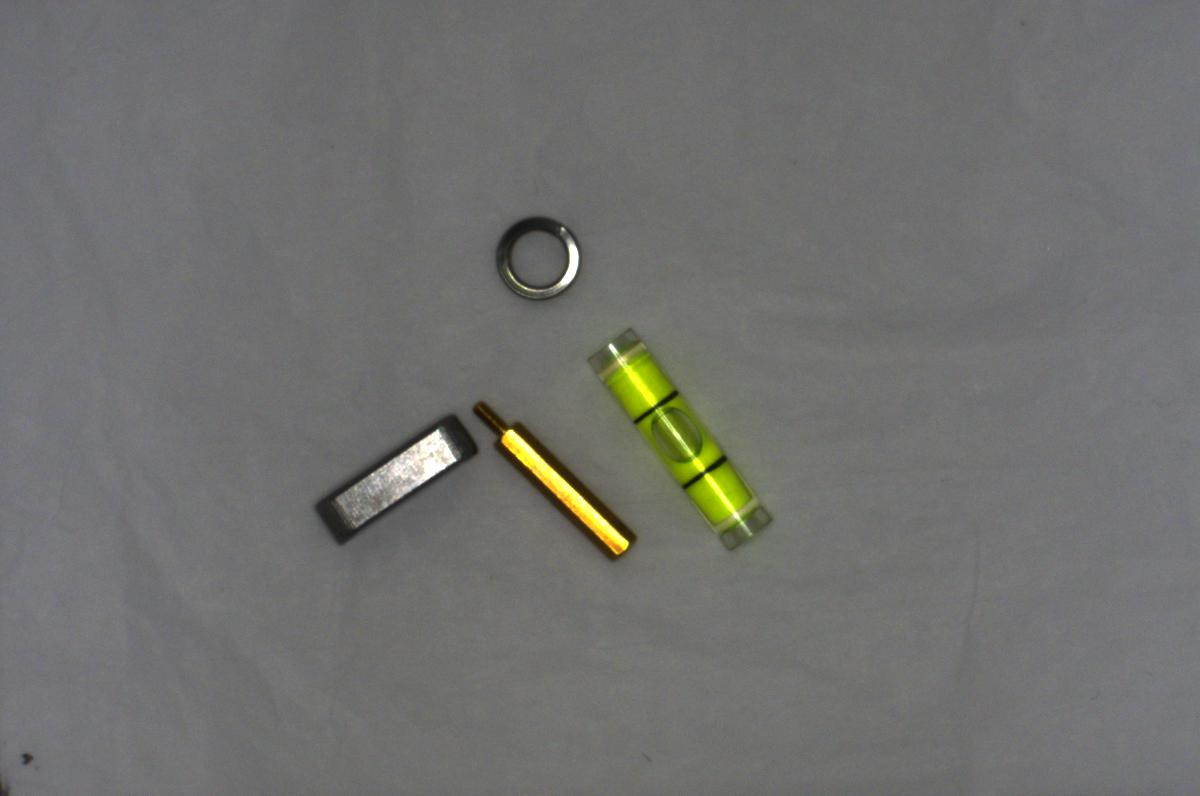Hexagon pillar: (464, 388, 628, 559)
Horizontal bubble: (590, 327, 771, 558)
Keybar: (312, 412, 475, 547)
Spring washer: (491, 205, 590, 303)
